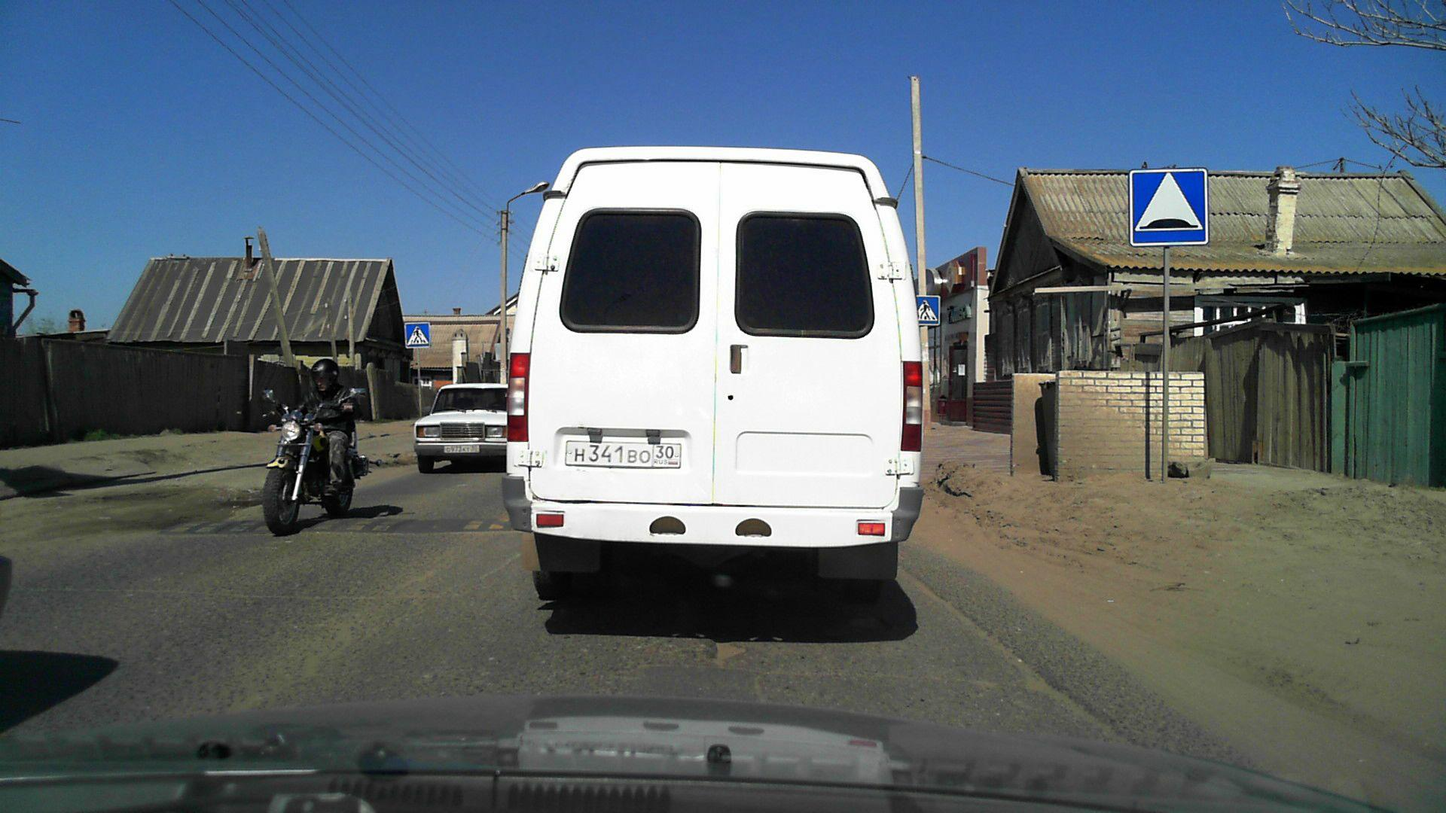obstructed_road_sign: (916, 296, 940, 325)
road_sign: (1130, 169, 1207, 246), (404, 322, 431, 349)
